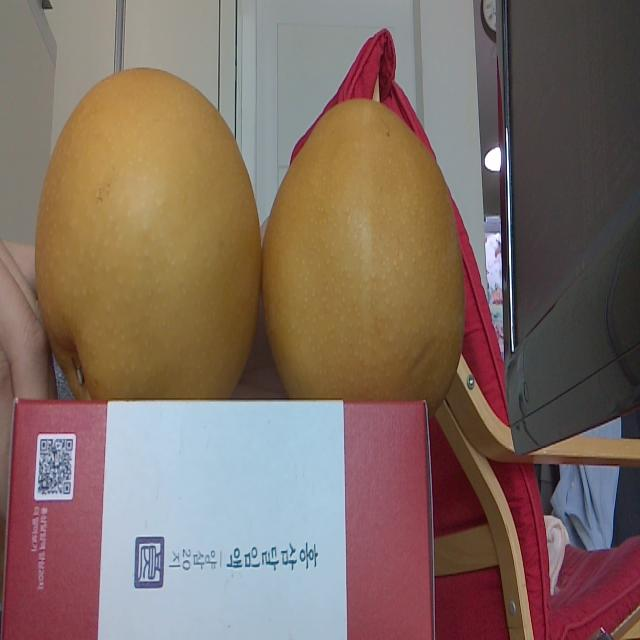pear: (36, 66, 260, 400), (264, 97, 463, 399)
